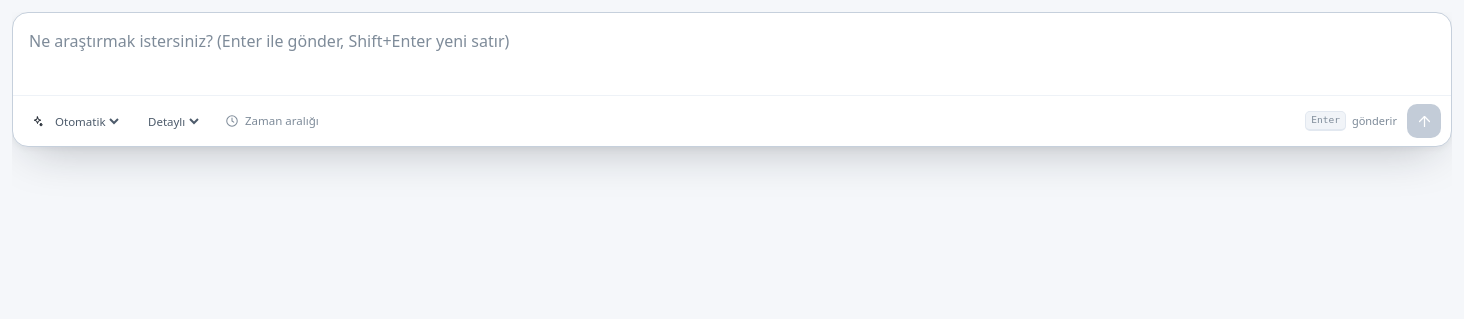
Test: ChatComposer › requires both manual time fields before submitting
The width and height of the screenshot is (1464, 319).
Click the checkbox named "Zaman aralığı belirt": (272, 121) [216, 106, 328, 136]
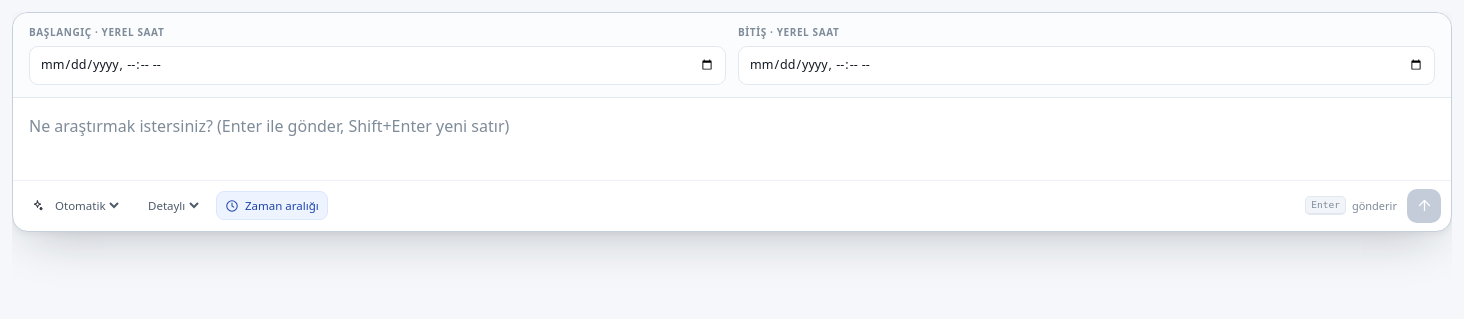
In the field labelled "Başlangıç · yerel saat": (378, 65) [29, 46, 726, 85], type "2026-07-30T11:15"
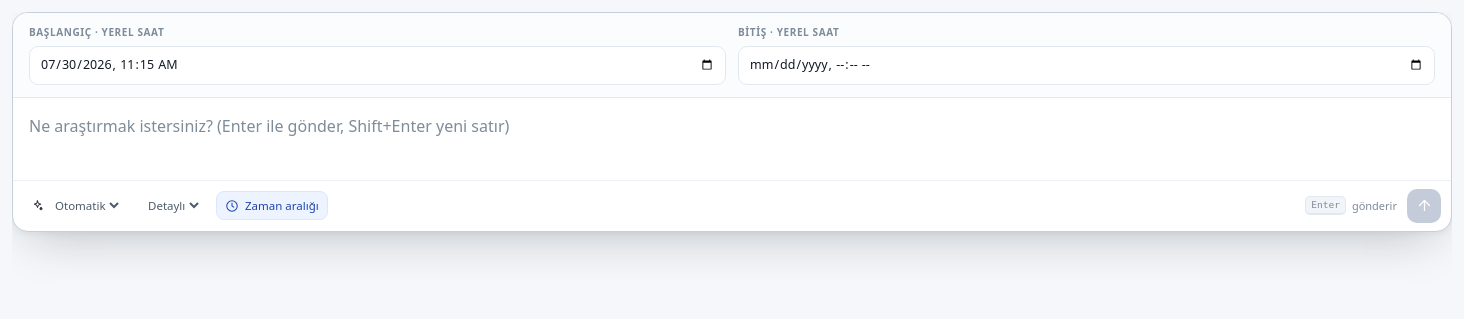
Replace the text in the text box with placeholder "Ne araştırmak istersiniz" with "OTP oranını incele": (732, 136) [13, 98, 1451, 174]
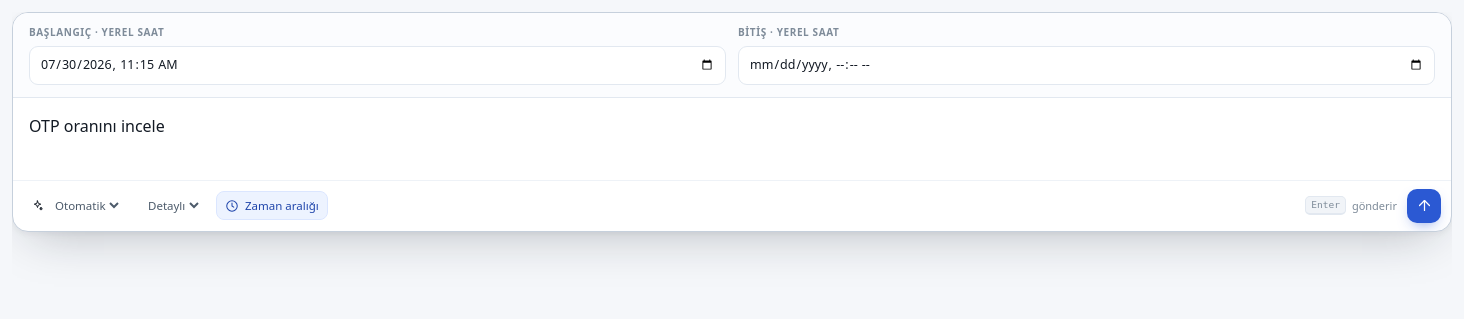
Press Enter in the text box with placeholder "Ne araştırmak istersiniz", box [13, 98, 1451, 174]
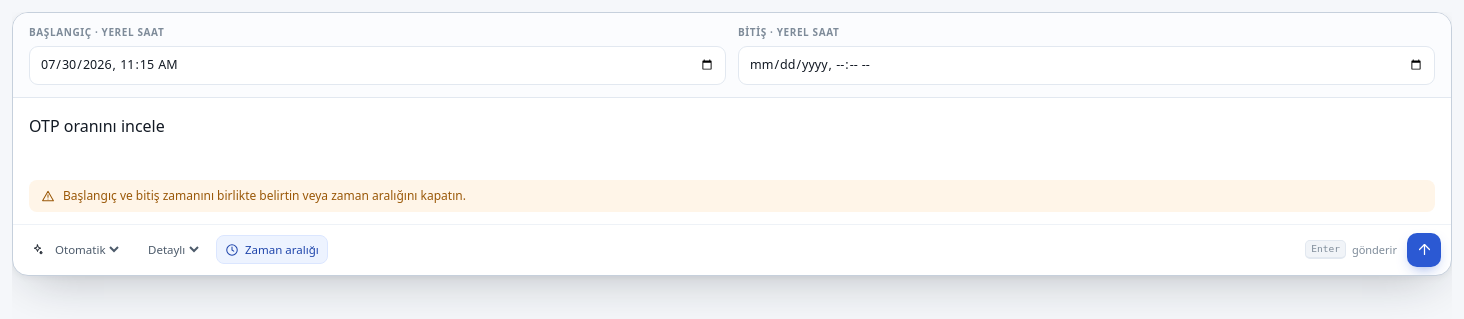
expect the message shows "Başlangıç ve bitiş zamanını birlikte": met, box [63, 187, 466, 204]
